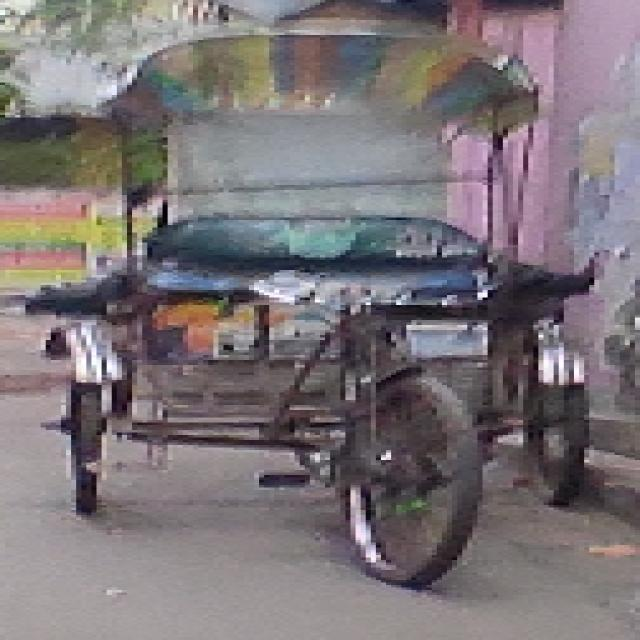rickshaw: (36, 25, 600, 595)
